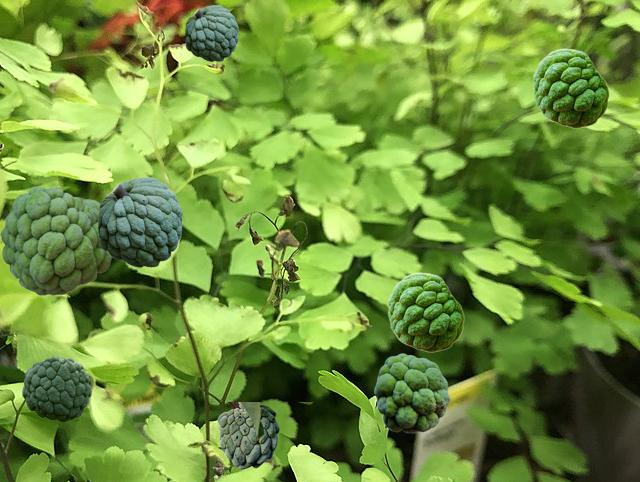atis: (0, 186, 112, 294), (98, 177, 181, 266), (217, 402, 311, 468), (533, 48, 608, 127), (388, 272, 463, 351), (374, 353, 449, 432), (22, 356, 90, 421), (185, 5, 237, 60)
